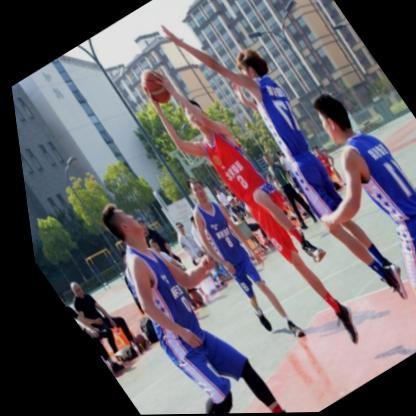basketball: (133, 67, 171, 108)
